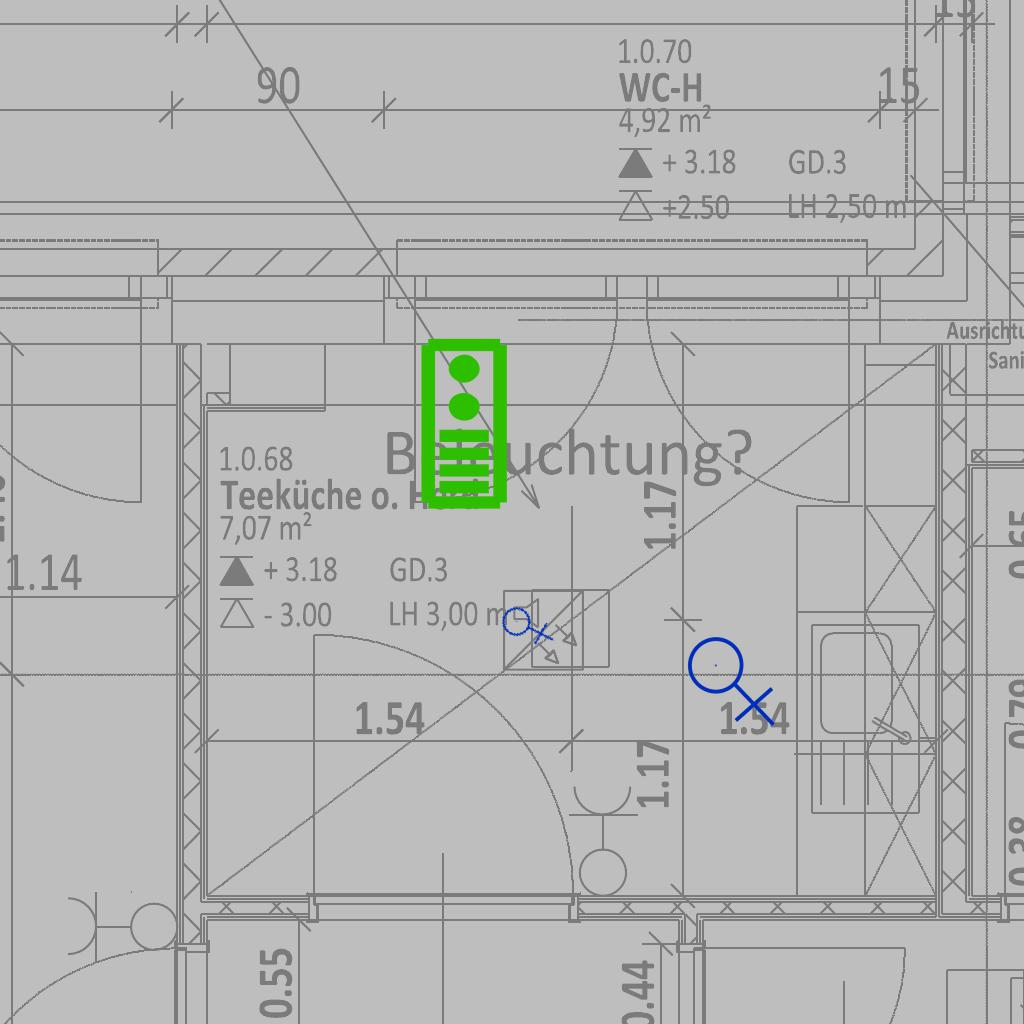Elektroanschluss_allgemein_230V_Geraeteanschlussdose_230V: (686, 628, 780, 727), (496, 593, 557, 656)
Gegensprechanlage_mit_Video: (415, 335, 510, 511)
